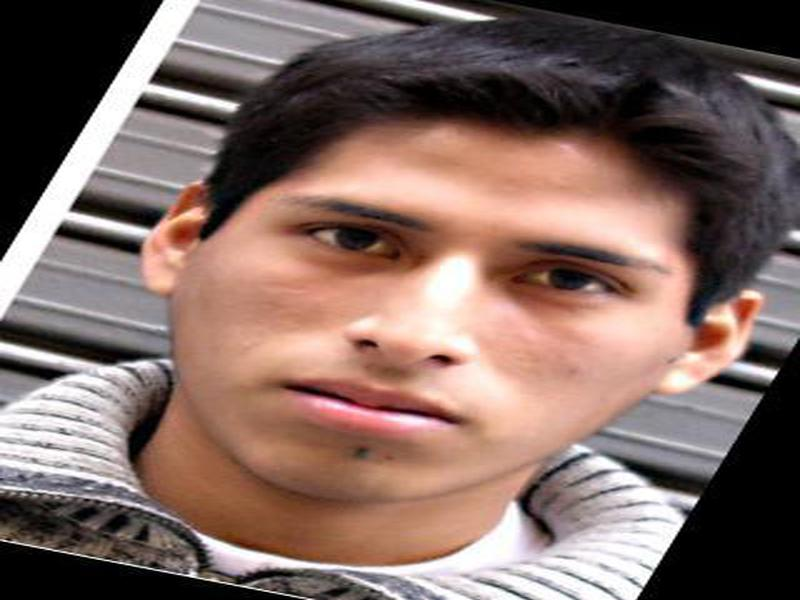without_mask: (180, 106, 691, 510)
